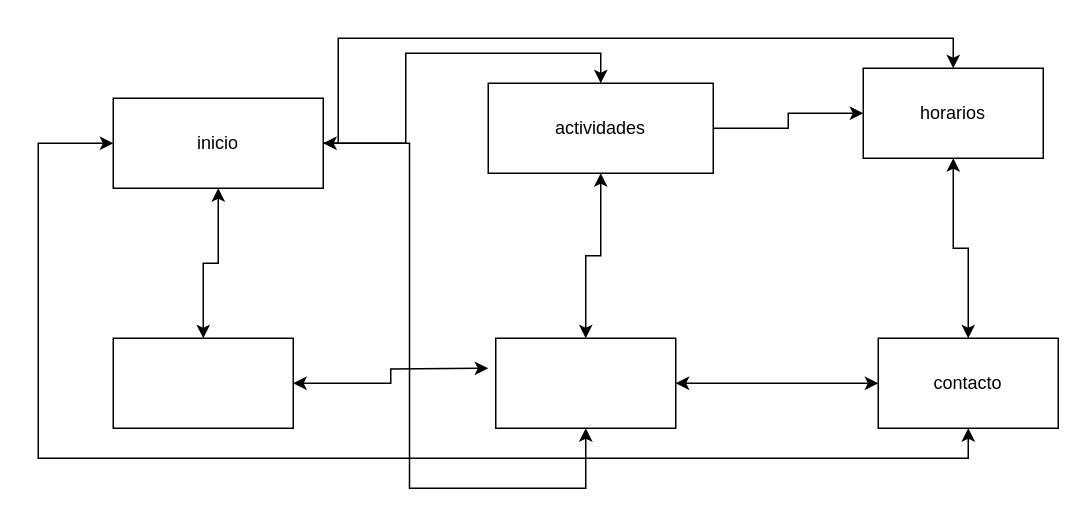
Some shapes in this 1085 by 527 pixel diagram are drawn without their labels. The box of each missing label's shape, as (x1, y1, x2, y2) in pixels:
conocenos: (494, 337, 676, 428)
tarifas: (112, 337, 293, 428)
